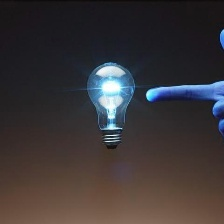light_bulb: (84, 59, 137, 155)
